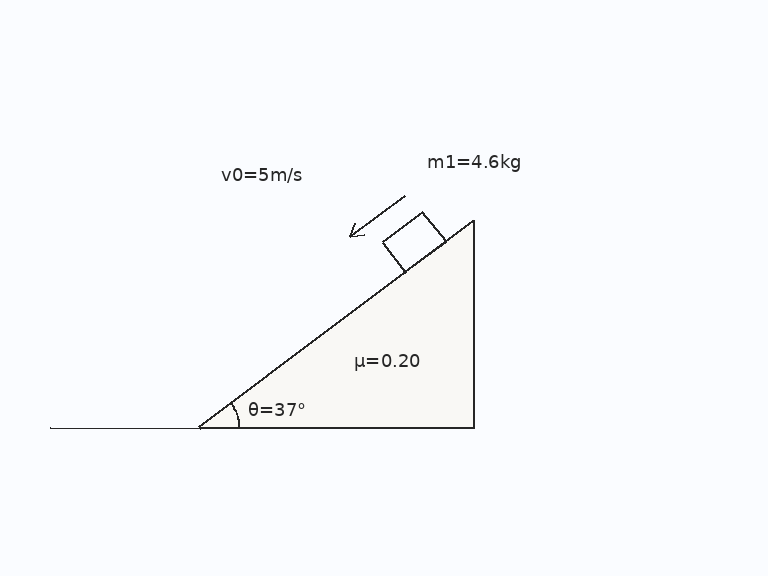block: (380, 209, 448, 274)
ramp: (197, 218, 476, 429)
